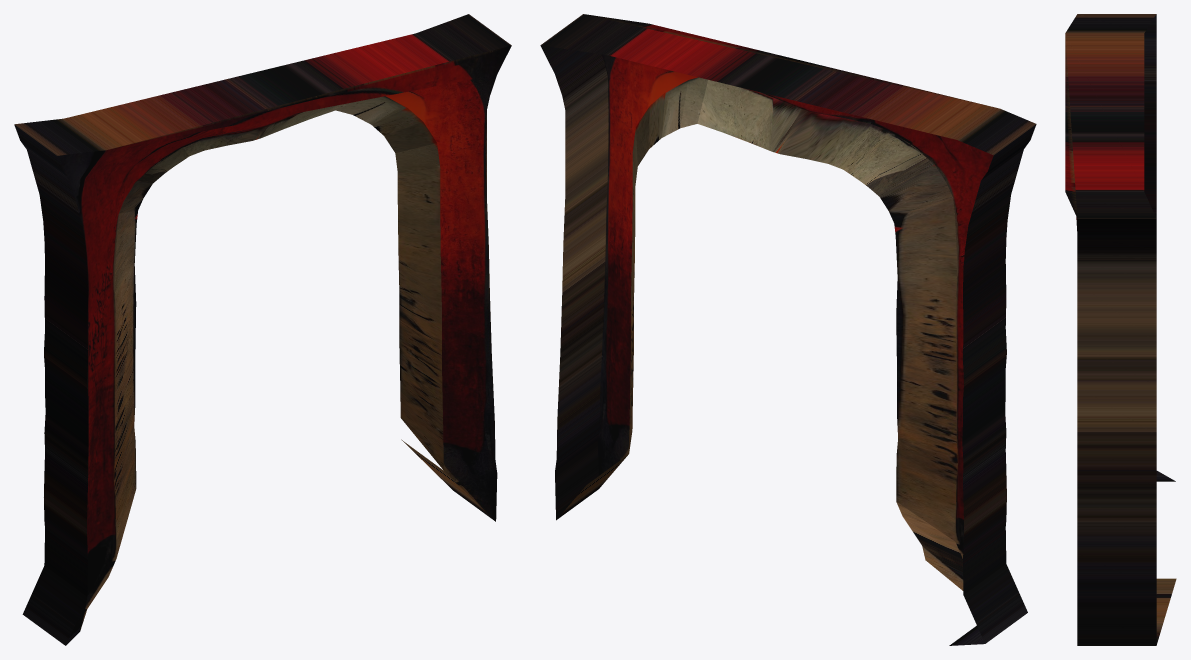
File: arch1.glb
3 views of the same model, side by side, from view 1: azimuth 30°, elevation 25°; view 2: azimuth 150°, elevation 25°; view 3: azimuth 270°, elevation 25° (orthographic). The views are drawn at different scales.
Parts seen in each view (by area): view 1: Arch-1; view 2: Arch-1; view 3: Arch-1.
Part boxes in pixels (left/top/right/bottom): Arch-1: left=14, top=14, right=511, bottom=645; Arch-1: left=540, top=14, right=1036, bottom=645; Arch-1: left=1065, top=14, right=1176, bottom=645.
Bounding box in the file's own units: 1.93 × 2 × 0.4457.
Materials: 1 (1 with a texture image).
